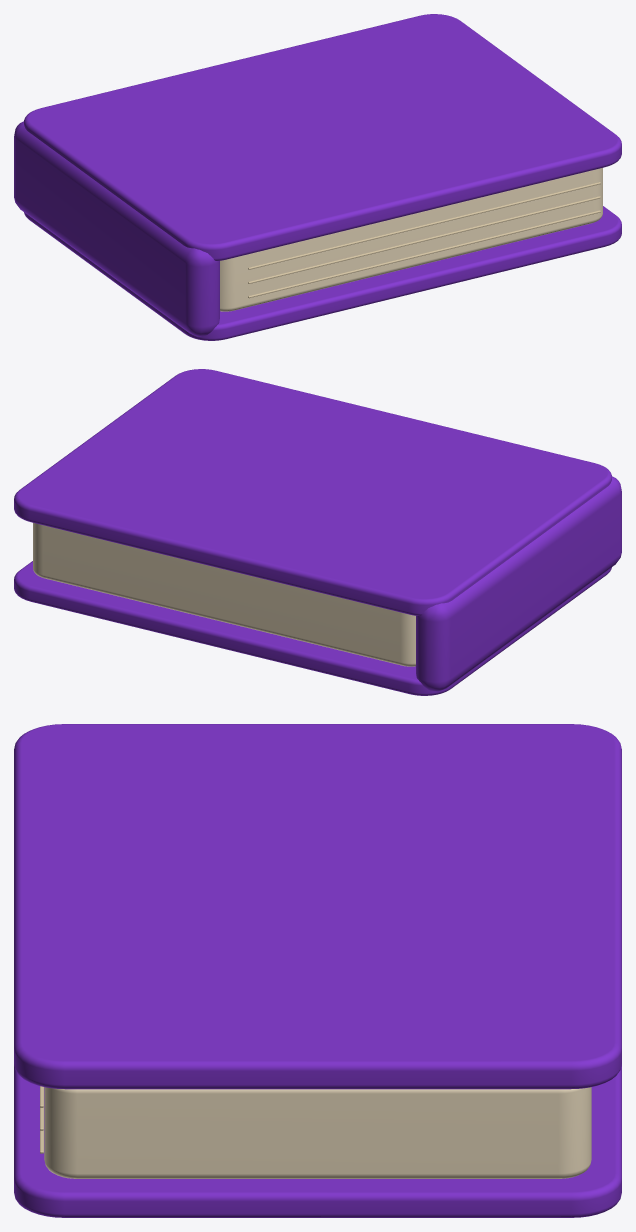
File: book-closed.glb
3 views of the same model, one above another, from view 1: azimuth 30°, elevation 25°; view 2: azimuth 150°, elevation 25°; view 3: azimuth 270°, elevation 25° (orthographic). The views are drawn at different scales.
Parts seen in each view (by area): view 1: Book upper cover, Book page block, Book rounded spine, Book lower cover, Book page edges.002, Book page edges, Book page edges.001; view 2: Book upper cover, Book page block, Book rounded spine, Book lower cover; view 3: Book upper cover, Book page block, Book lower cover.
Part boxes in pixels (left/top/right/bottom): Book upper cover: left=24, top=14, right=621, bottom=260; Book page block: left=220, top=168, right=602, bottom=311; Book rounded spine: left=14, top=121, right=219, bottom=336; Book lower cover: left=24, top=206, right=621, bottom=340; Book page edges.002: left=248, top=182, right=600, bottom=269; Book page edges: left=248, top=210, right=600, bottom=298; Book page edges.001: left=248, top=196, right=600, bottom=283; Book upper cover: left=14, top=369, right=611, bottom=615; Book page block: left=33, top=523, right=415, bottom=666; Book rounded spine: left=416, top=476, right=621, bottom=691; Book lower cover: left=14, top=561, right=611, bottom=695; Book upper cover: left=14, top=724, right=621, bottom=1089; Book page block: left=44, top=1087, right=591, bottom=1178; Book lower cover: left=14, top=1064, right=621, bottom=1217.
Size of the model in its own units: 1.62 by 0.34 by 1.2.
